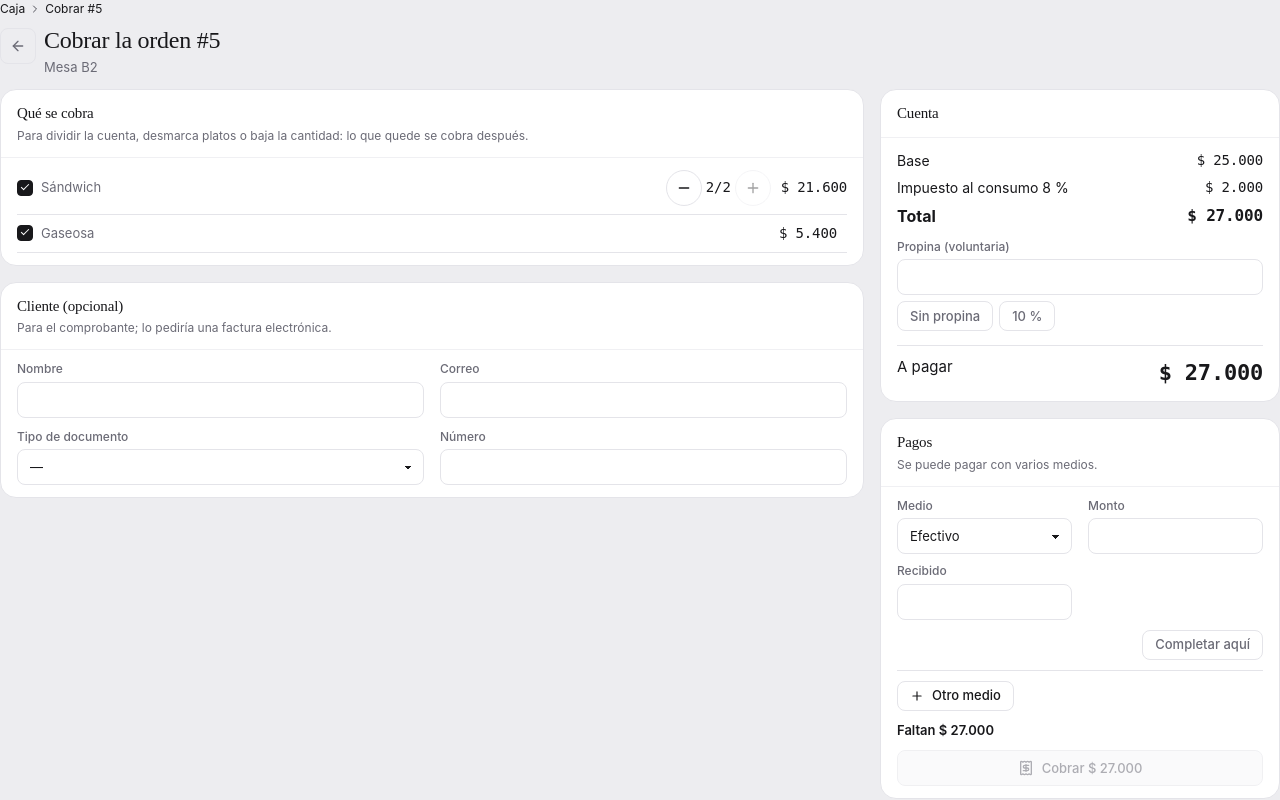
Scenario: Caja › cobra con dos medios, propina y devueltas; imprime el comprobante
expect the text "$ 25.000" is shown: met, box [1187,150,1263,171]
Click the button "10 %": (1027, 316) [999,301,1055,331]
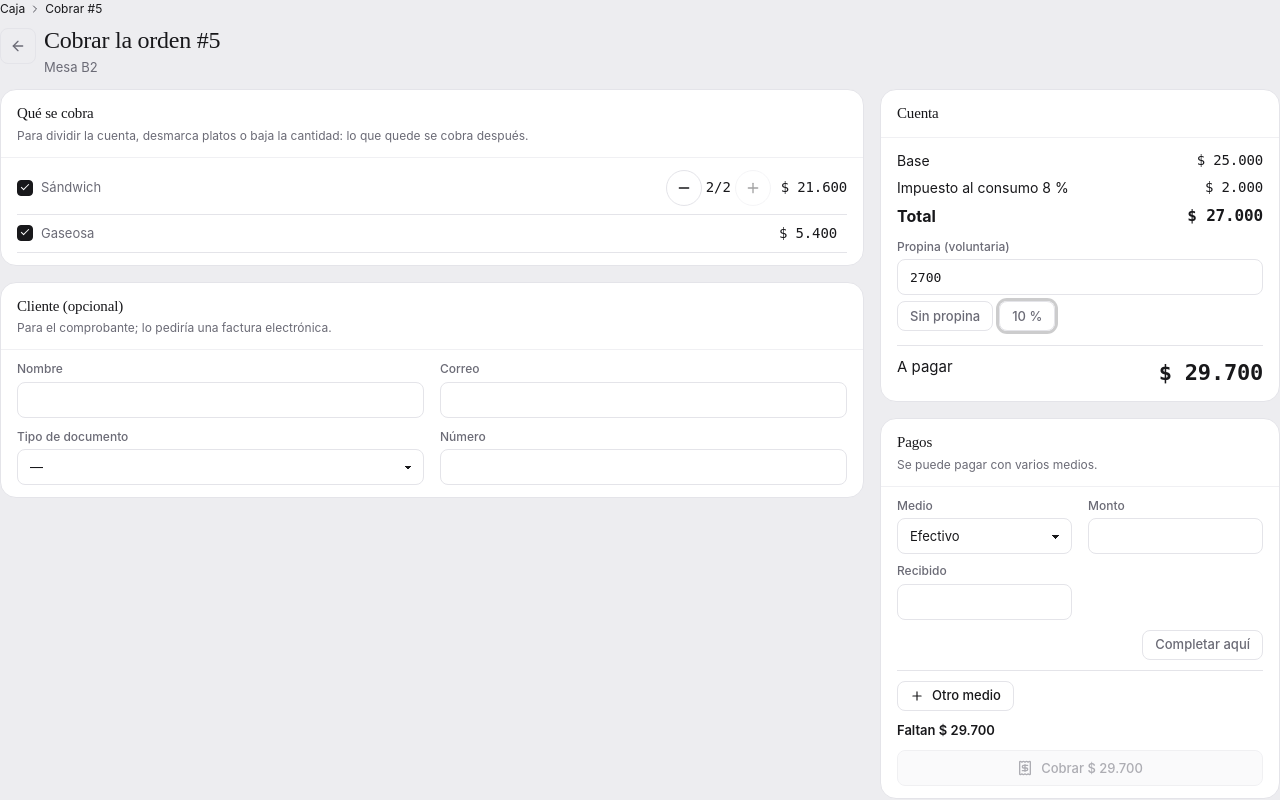
expect the text "$ 29.700" is shown: met, box [1159,356,1263,389]
In the field labelled "Monto": (1176, 536) [1088,518,1263,554], type "20000"
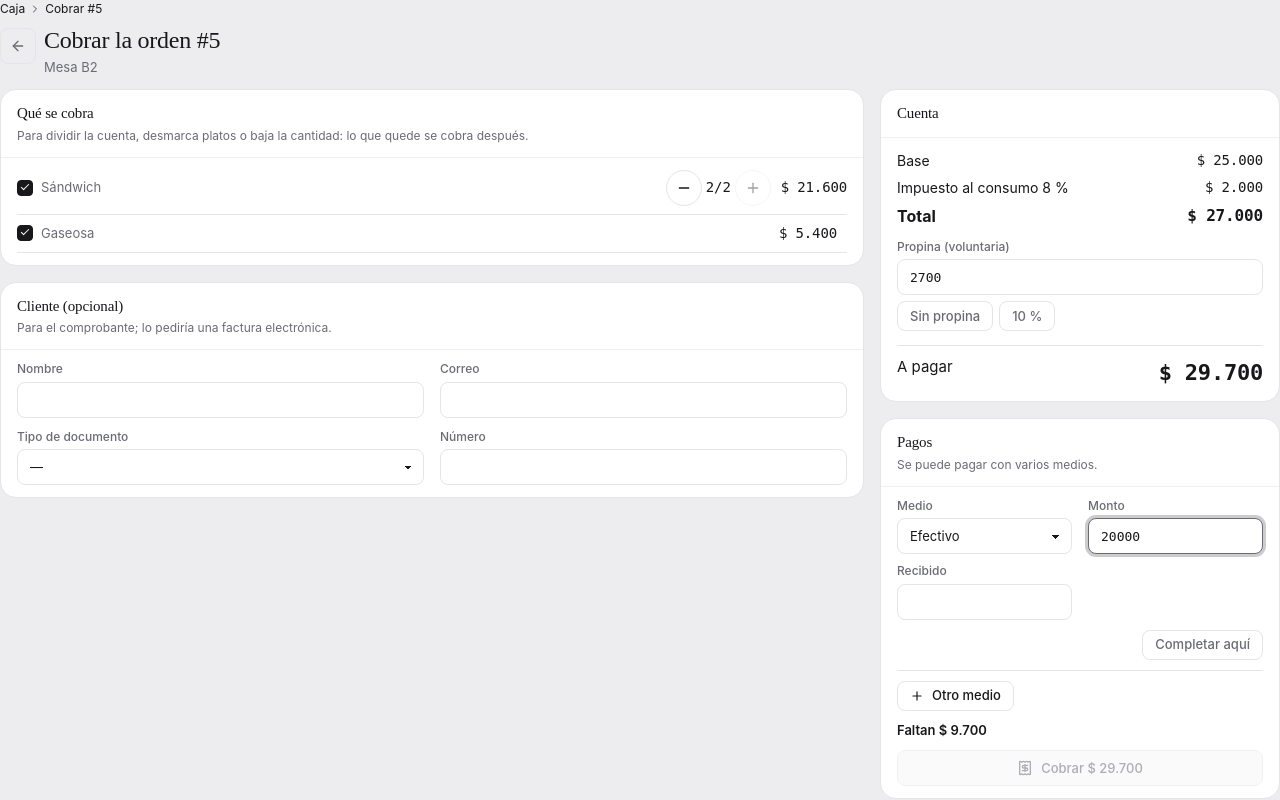
In the field labelled "Recibido": (984, 602) [897,584,1072,620], type "50000"
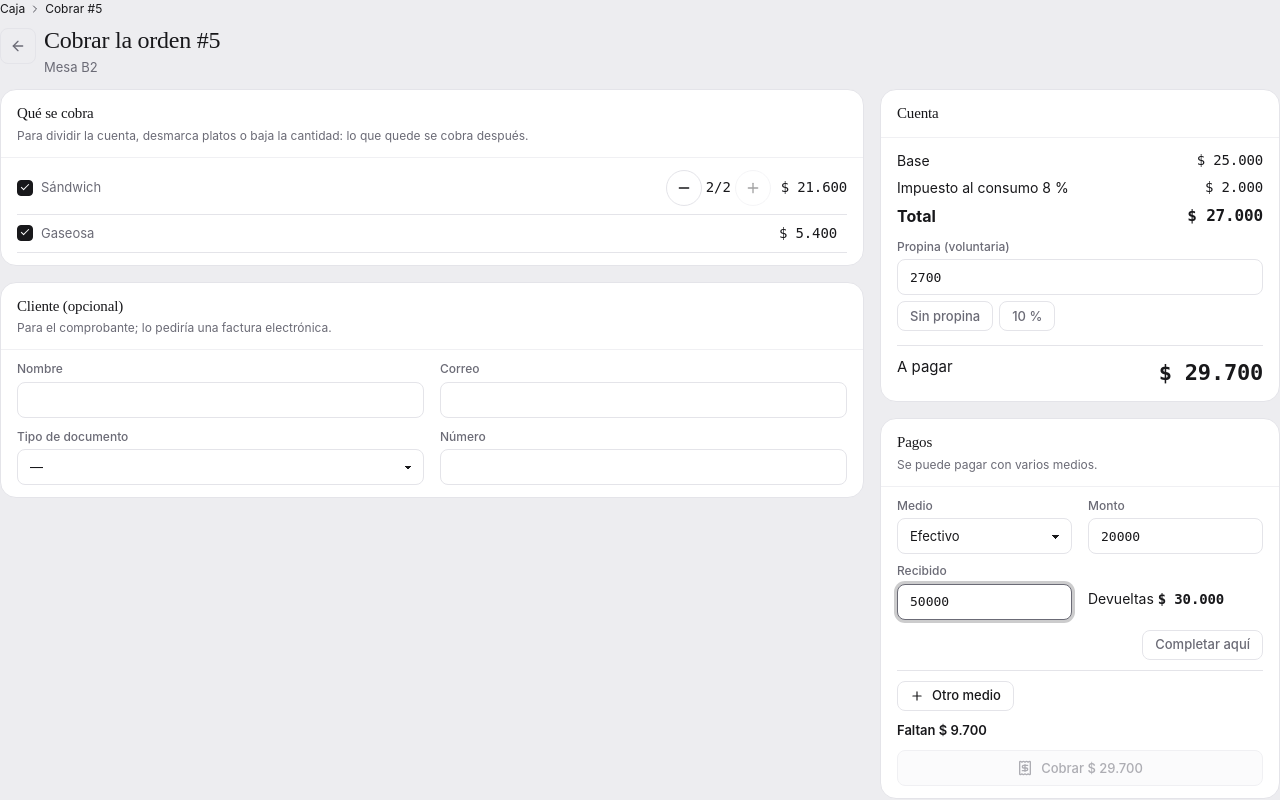
expect the text "Faltan $ 9.700" is shown: met, box [897,722,987,738]
expect the text "$ 30.000" is shown: met, box [1158,591,1224,607]
Click the button "Otro medio": (955, 696) [897,681,1014,711]
(page scrolled)
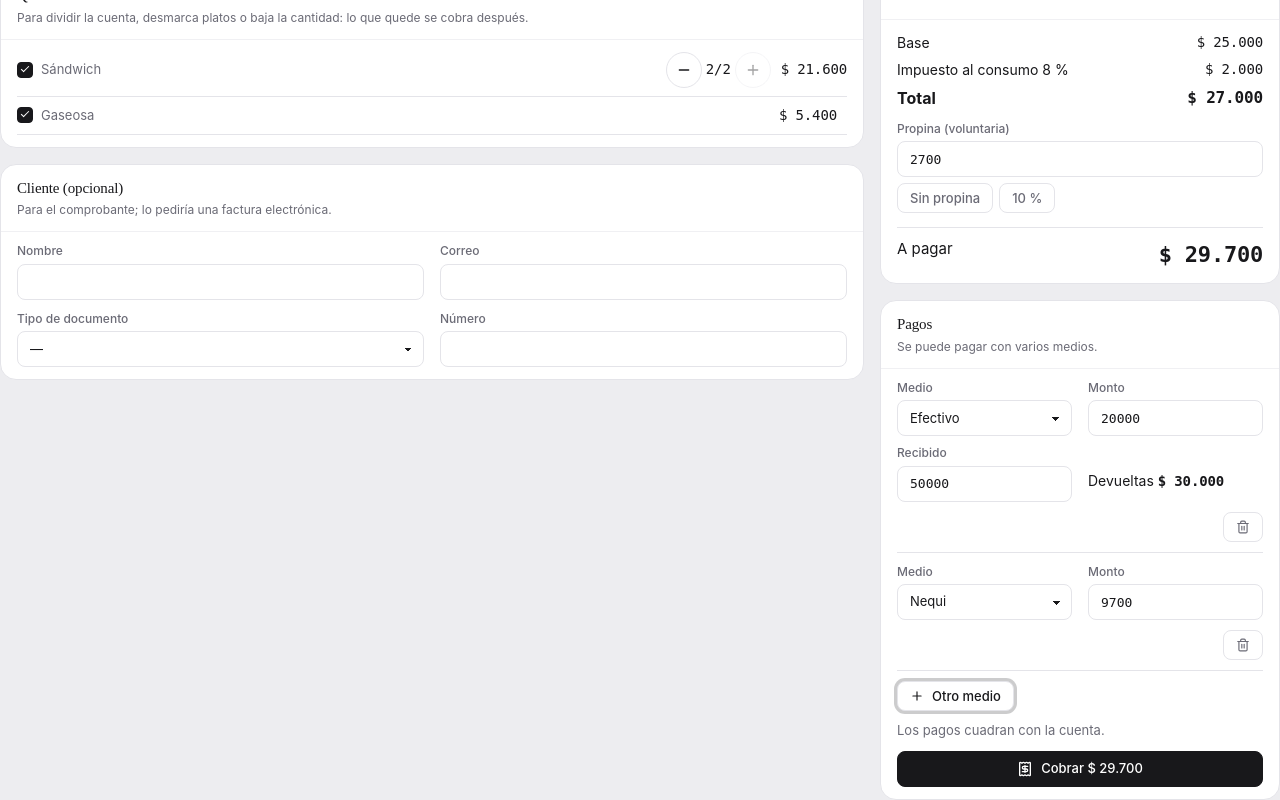
expect the text "Los pagos cuadran con la cuenta." is shown: met, box [897,722,1105,738]
Click the button "Cobrar $ 29.700": (1080, 768) [897,750,1263,786]
(page scrolled)
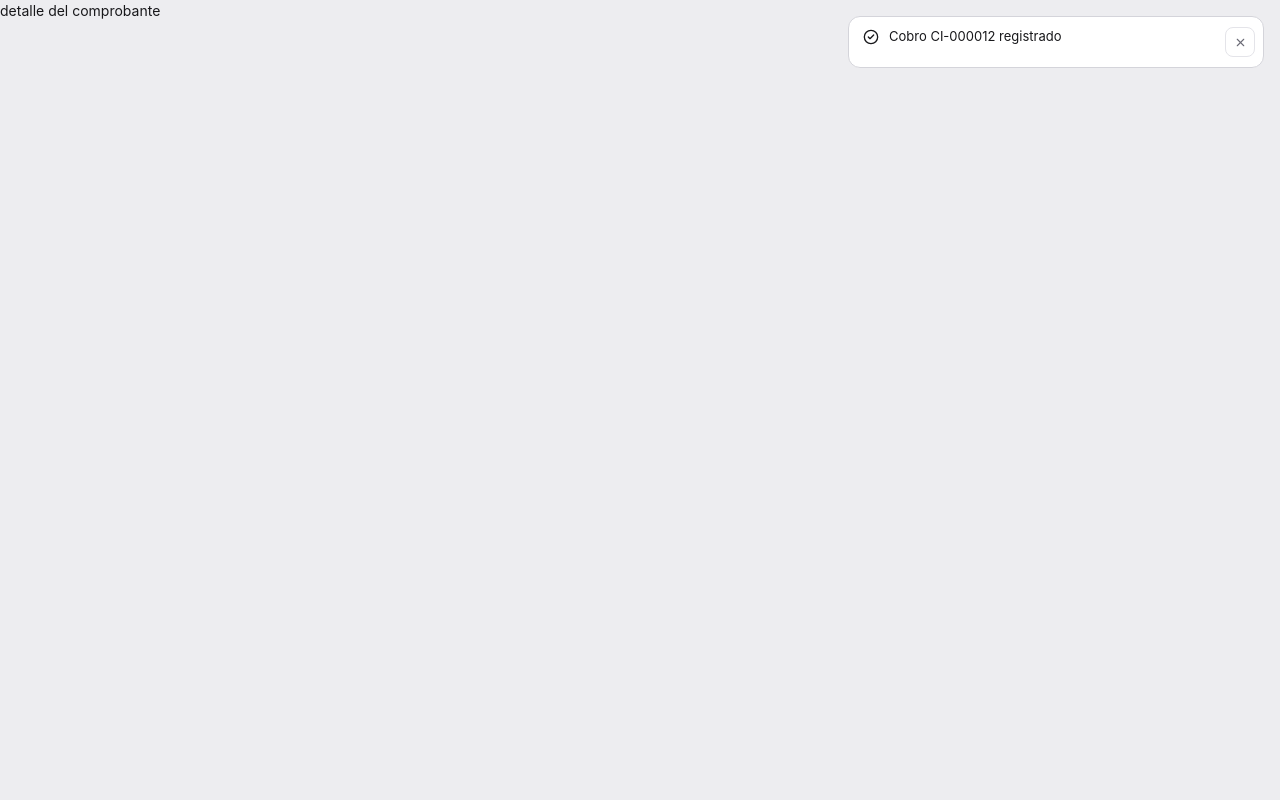
expect the text "detalle del comprobante" is shown: met, box [0,2,160,19]
